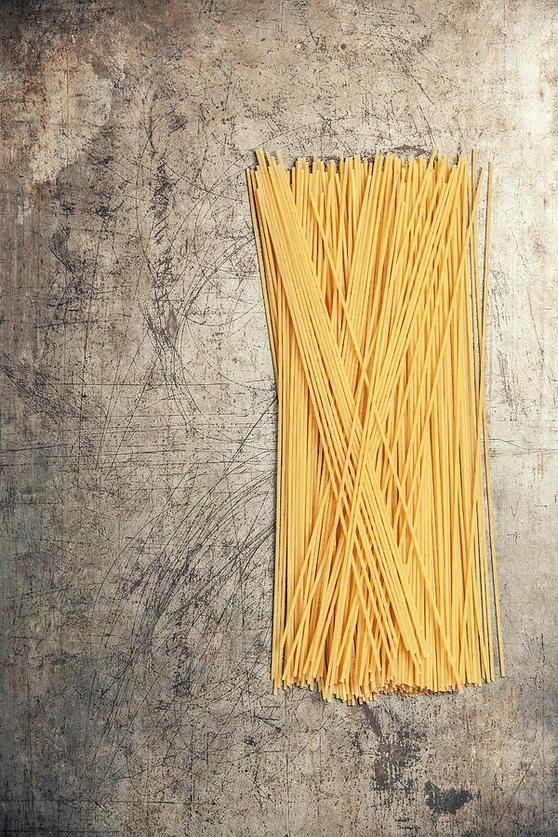spaghetti: (236, 144, 523, 700)
